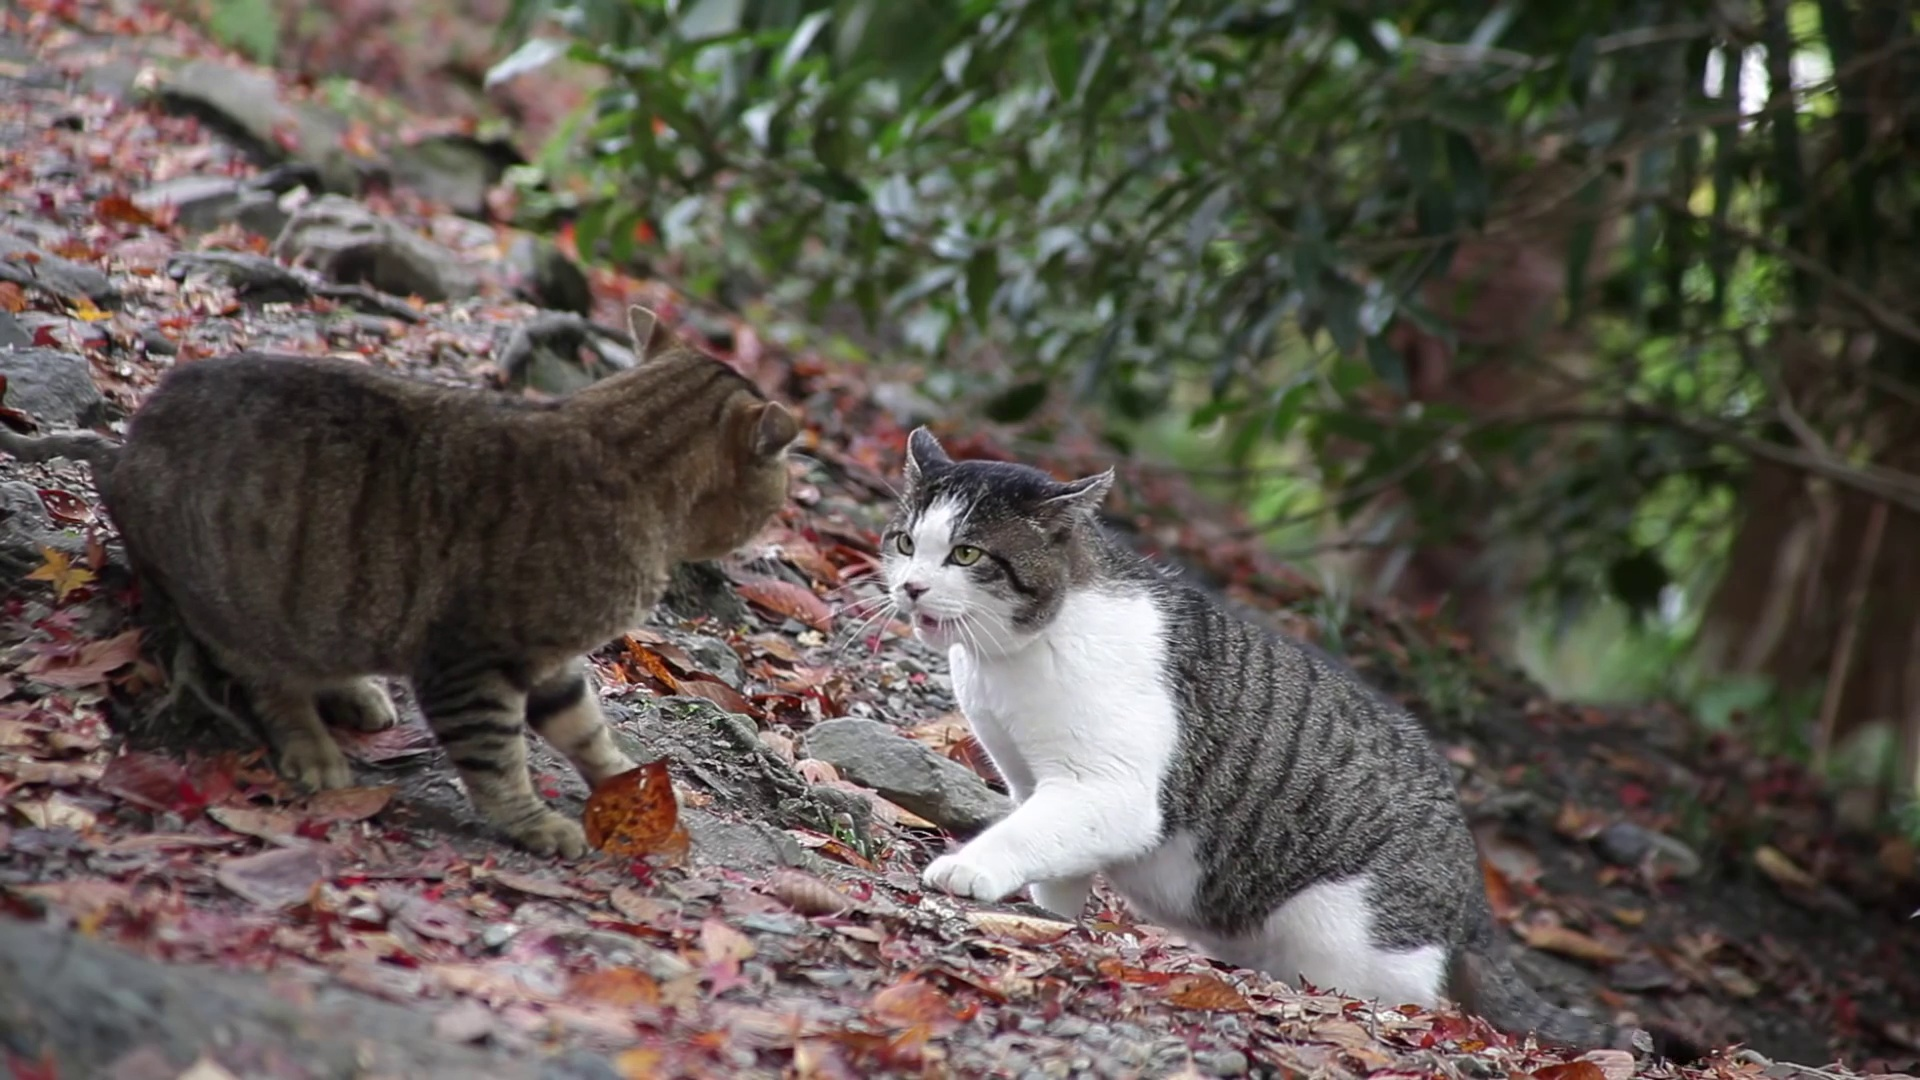black-white: (887, 425, 1509, 1006)
pure black: (113, 303, 800, 861)
